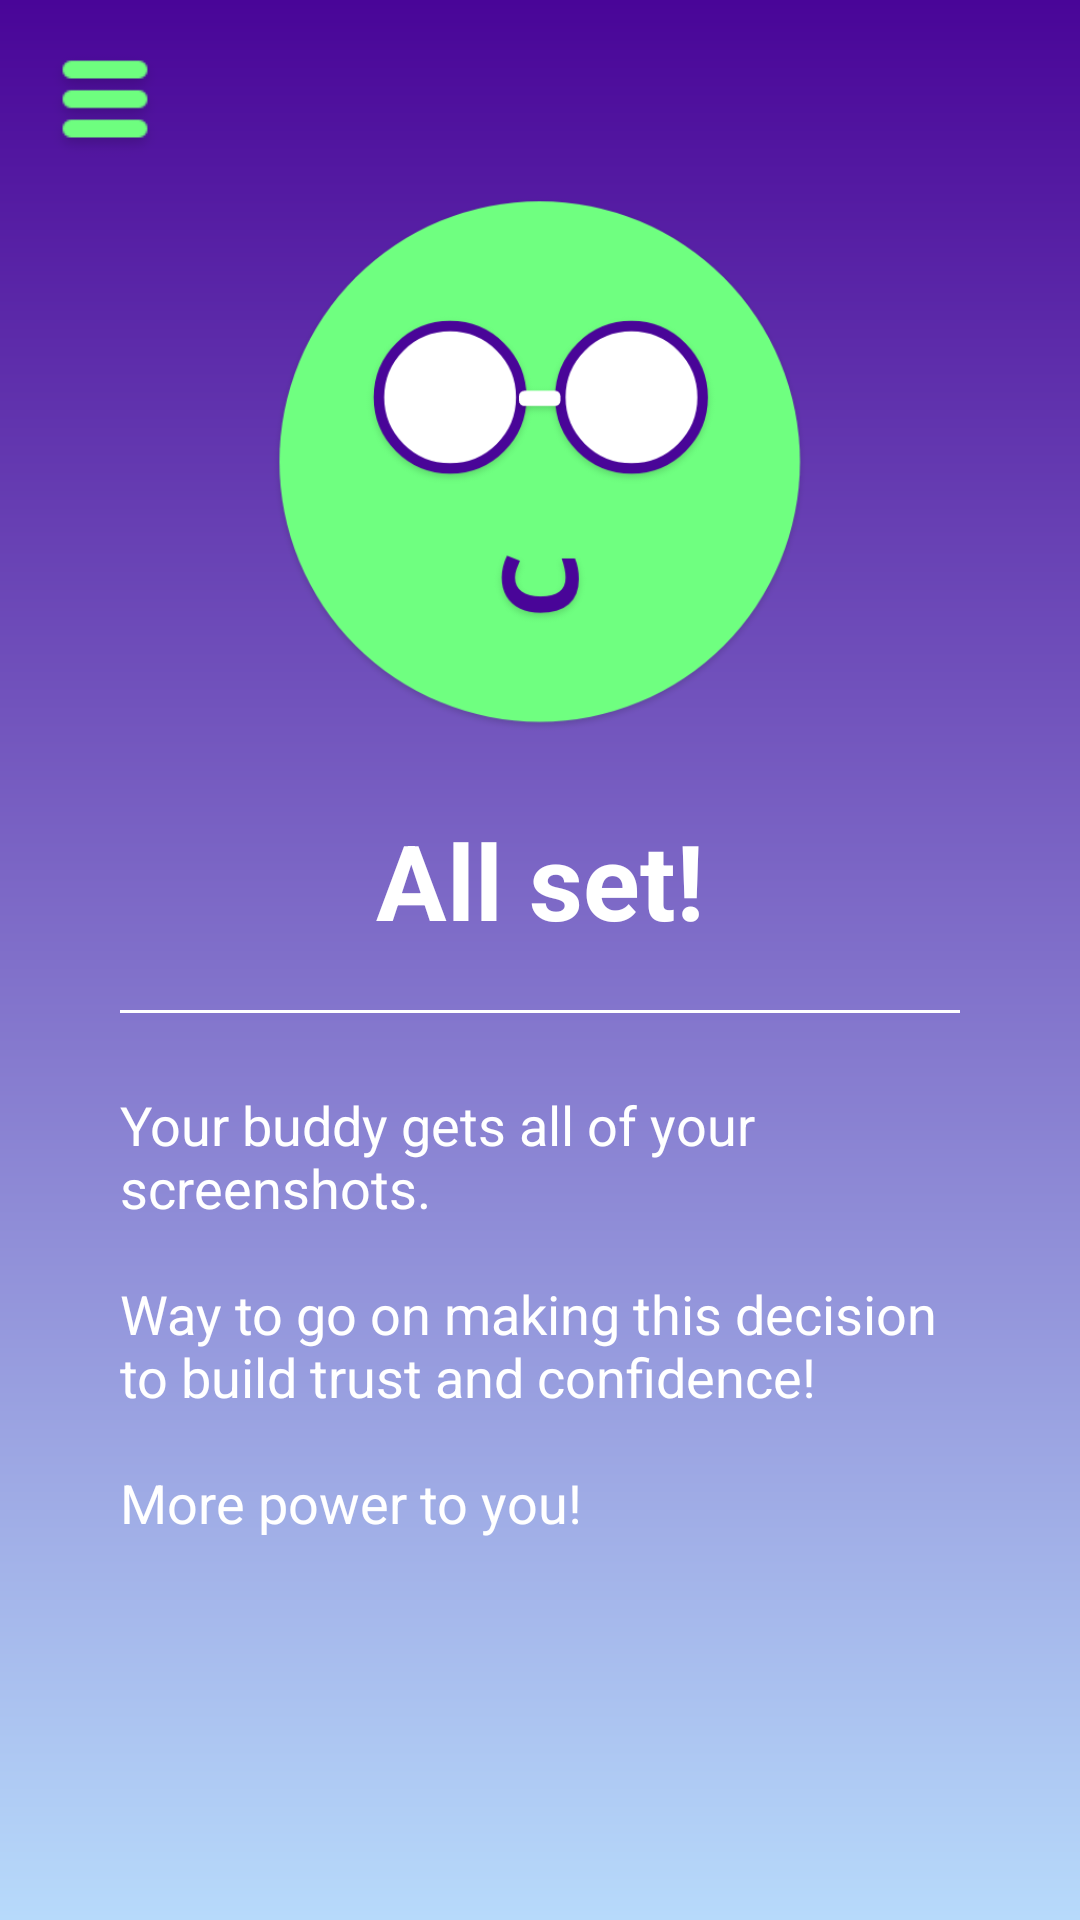

Named icons in this screenshot (1080×1920) and their centers, [x,y]:
toggle: [105,99]
